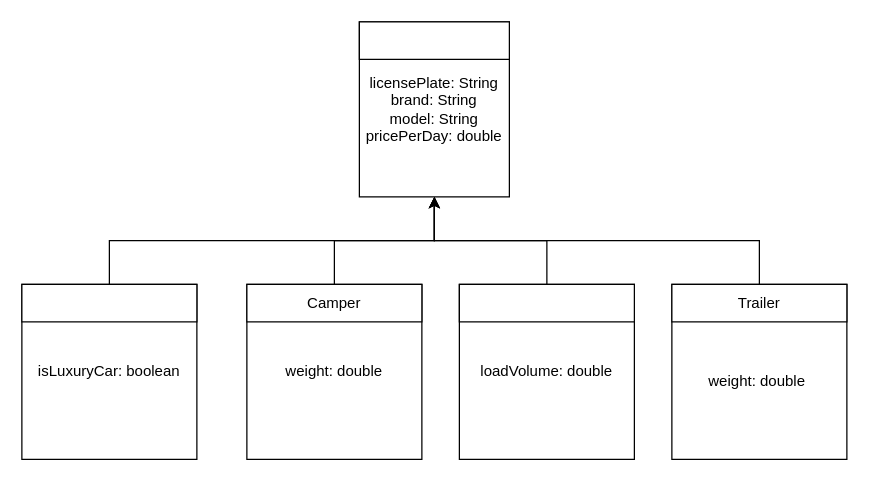
The diagram is 869 pixels wide and 494 high, and some of its shapes have lost their labels. The shapes that lost their labels are listed below. From the top down, each one's centre as x and y in pixels, then its label:
point 433,40: Vehicle
point 109,302: Car
point 546,302: Truck
